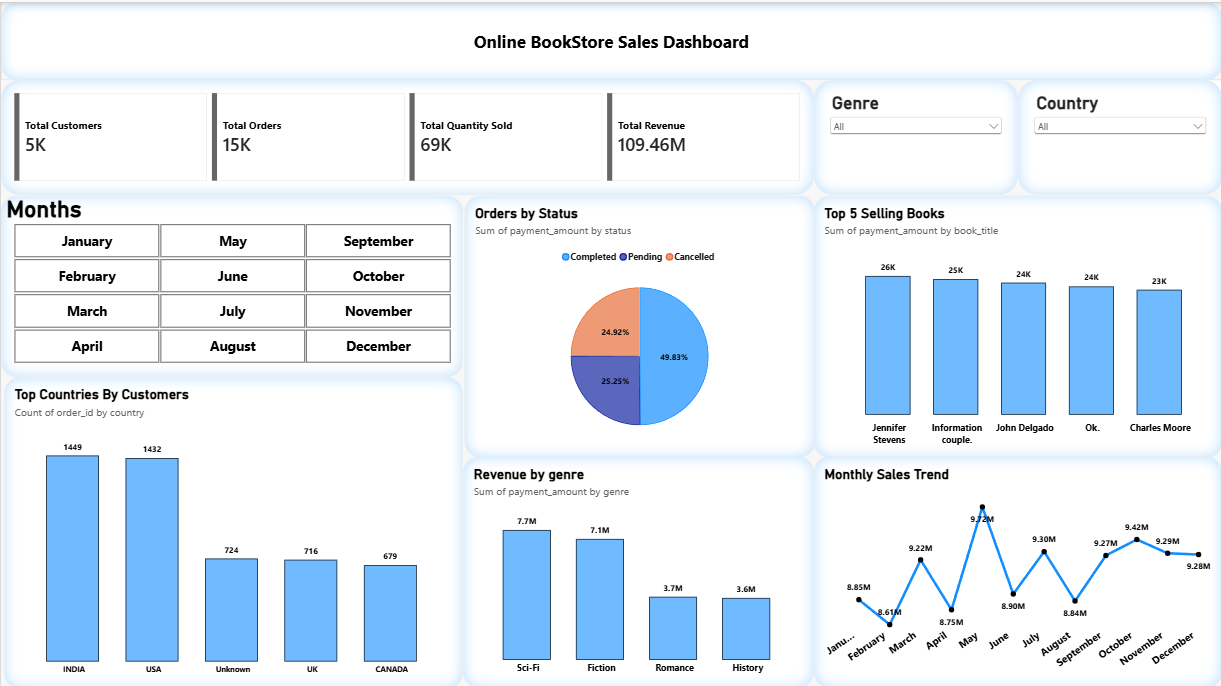

The dashboard page shown, as its layout file describes it:
{"tool":"powerbi","page":{"name":"Page 1","canvas":[1920,1080],"ordinal":0},"visuals":[{"type":"shape","box":[0,0,1920.9,122.6],"z":0},{"type":"cardVisual","fields":{"Data":["Cleaned_Customers.Total Customers","Cleaned_Customers.Total Orders","Cleaned_Customers.Total Quantity Sold","Cleaned_Customers.Total Revenue"]},"box":[0,122.6,1278.6,181],"z":1000},{"type":"columnChart","title":"Top 5 Selling Books","fields":{"Category":["Cleaned_Products.book_title"],"Y":["Sum(Cleaned_Orders.payment_amount)"]},"box":[1278.6,303.6,642.9,412.6],"z":2000},{"type":"slicer","fields":{"Values":["Cleaned_Products.genre"]},"box":[1278.6,122.6,321.1,181],"z":3000},{"type":"slicer","fields":{"Values":["Cleaned_Customers.country"]},"box":[1599.7,122.6,321.1,181],"z":4000},{"type":"columnChart","title":"Revenue by genre","fields":{"Category":["Cleaned_Products.genre"],"Y":["Sum(Cleaned_Orders.payment_amount)"]},"box":[726.9,715.2,551.7,364.9],"z":5000},{"type":"pieChart","title":"Orders by Status","fields":{"Category":["Cleaned_Orders.status"],"Y":["Sum(Cleaned_Orders.payment_amount)"]},"box":[729.8,303.6,551.7,411.6],"z":6000},{"type":"lineChart","title":"Monthly Sales Trend","fields":{"Category":["Cleaned_Orders.order_date.Variation.Date Hierarchy.Month"],"Y":["Sum(Cleaned_Orders.payment_amount)"]},"box":[1278.6,715.2,642.2,364.9],"z":7000},{"type":"slicer","fields":{"Values":["Cleaned_Orders.order_date.Variation.Date Hierarchy.Month"]},"box":[0,303.6,726.8,285.5],"z":7003},{"type":"clusteredColumnChart","title":"Top Countries By Customers","fields":{"Category":["Cleaned_Customers.country"],"Y":["Count(Cleaned_Orders.order_id)"]},"box":[5.8,589.7,721.1,490.4],"z":7004}]}

Visuals, with their boxes in screenshot pixels (x1, y1, x2, y2), scaled from the page's 1920x1080 canvas onto the 1221x686 screenshot:
shape: rect(0, 0, 1220, 78)
cardVisual - Cleaned_Customers.Total Customers x Cleaned_Customers.Total Orders: rect(0, 78, 813, 193)
"Top 5 Selling Books" columnChart: rect(813, 193, 1220, 455)
slicer - Cleaned_Products.genre: rect(813, 78, 1017, 193)
slicer - Cleaned_Customers.country: rect(1017, 78, 1220, 193)
"Revenue by genre" columnChart: rect(462, 454, 813, 685)
"Orders by Status" pieChart: rect(464, 193, 815, 454)
"Monthly Sales Trend" lineChart: rect(813, 454, 1220, 685)
slicer - Cleaned_Orders.order_date.Variation.Date Hierarchy.Month: rect(0, 193, 462, 374)
"Top Countries By Customers" clusteredColumnChart: rect(4, 375, 462, 685)
